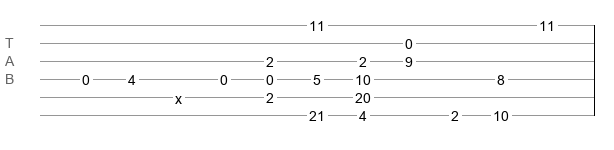0: (82, 72, 90, 82), (220, 72, 228, 82), (266, 72, 274, 82), (405, 36, 413, 46)
10: (355, 72, 371, 82), (493, 108, 509, 118)
11: (309, 18, 325, 28), (539, 18, 555, 28)
2: (266, 54, 274, 64), (266, 90, 274, 100), (359, 54, 367, 64), (451, 108, 459, 118)
20: (355, 90, 371, 100)
21: (309, 108, 325, 118)
4: (128, 72, 136, 82), (359, 108, 367, 118)
5: (313, 72, 321, 82)
8: (497, 72, 505, 82)
9: (405, 54, 413, 64)
x: (175, 91, 182, 99)
